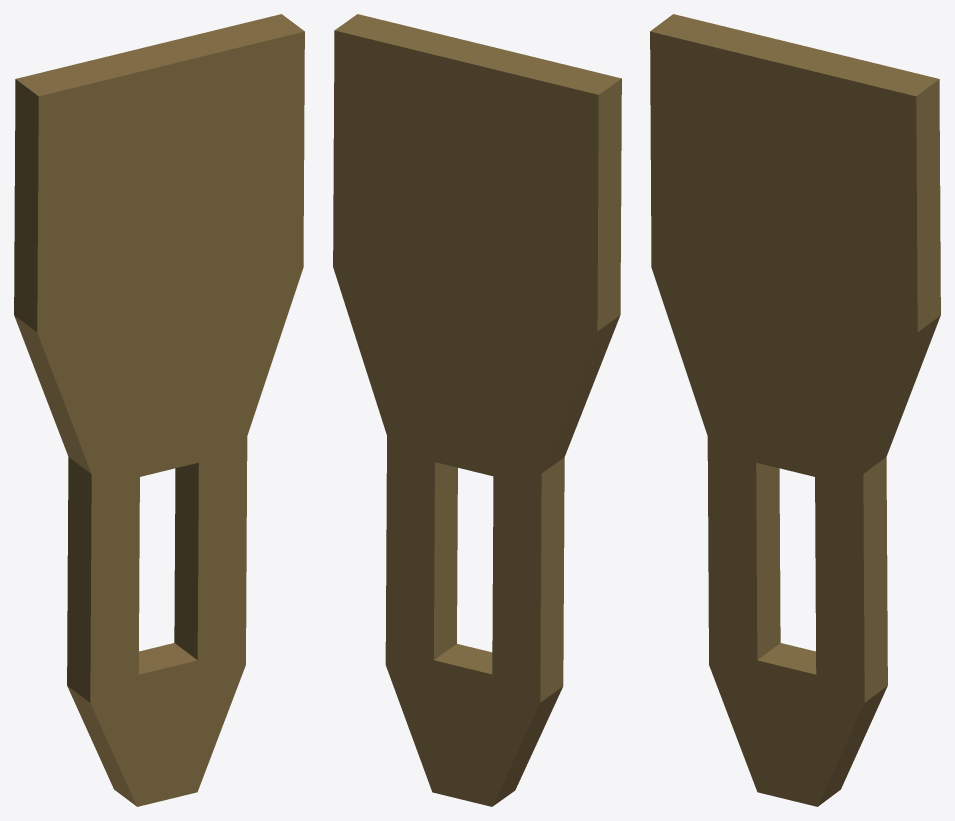
Rendered from kingdom_SM_Prop_Chest_02_Latch.gltf.
3 renders of one model, left to right at view 1: azimuth 30°, elevation 25°; view 2: azimuth 150°, elevation 25°; view 3: azimuth 330°, elevation 25°, orthographic.
Visible parts, largest first — view 1: SM_Prop_Chest_02_Latch; view 2: SM_Prop_Chest_02_Latch; view 3: SM_Prop_Chest_02_Latch.
Part boxes in pixels (x1,y1,x2,y2): SM_Prop_Chest_02_Latch: (14, 14, 304, 806); SM_Prop_Chest_02_Latch: (333, 14, 621, 806); SM_Prop_Chest_02_Latch: (650, 14, 940, 806).
Bounding box in the file's own units: 0.0482 × 0.128 × 0.00868.
Materials: 1 (1 with a texture image).
